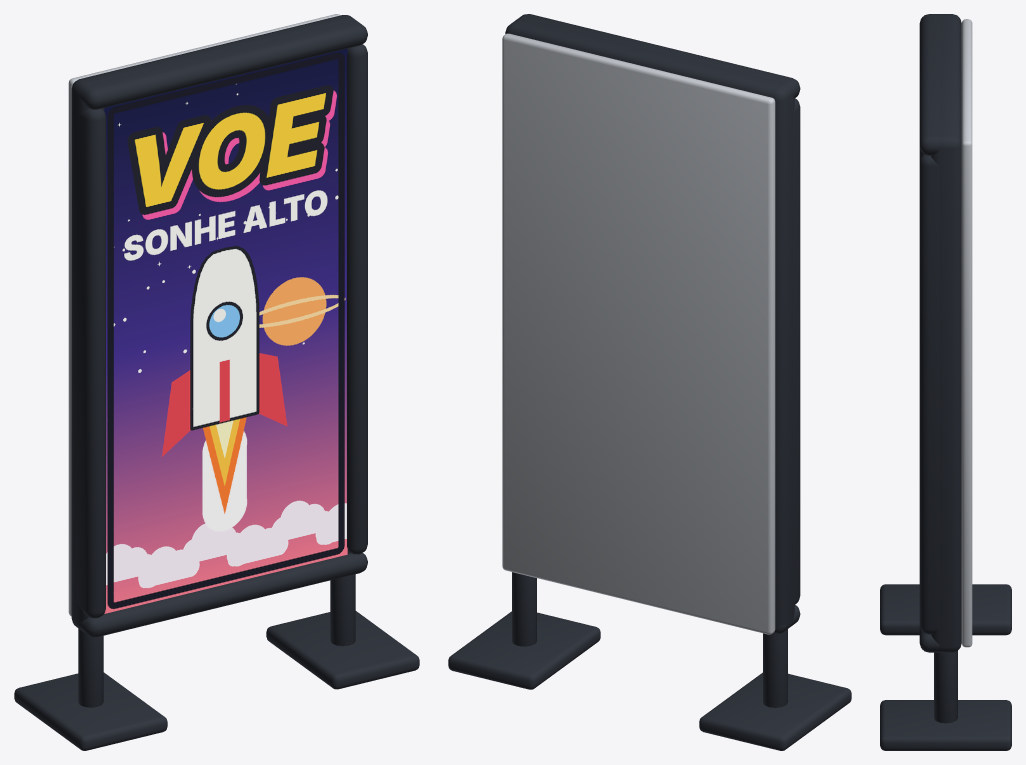
Rendered from vertical_foguete_voe.glb.
3 views of the same model, side by side, from view 1: azimuth 30°, elevation 25°; view 2: azimuth 150°, elevation 25°; view 3: azimuth 270°, elevation 25° (orthographic). The views are drawn at different scales.
Visible parts, largest first — view 1: vertical_foguete_voe; view 2: vertical_foguete_voe; view 3: vertical_foguete_voe.
Boxes of the visible parts, x1,y1,x2,y2 form: vertical_foguete_voe: (14, 14, 419, 750); vertical_foguete_voe: (448, 14, 851, 750); vertical_foguete_voe: (880, 14, 1011, 750).
Size of the model in its own units: 1.4 by 2.51 by 0.5.
Materials: 2 (2 with a texture image).
